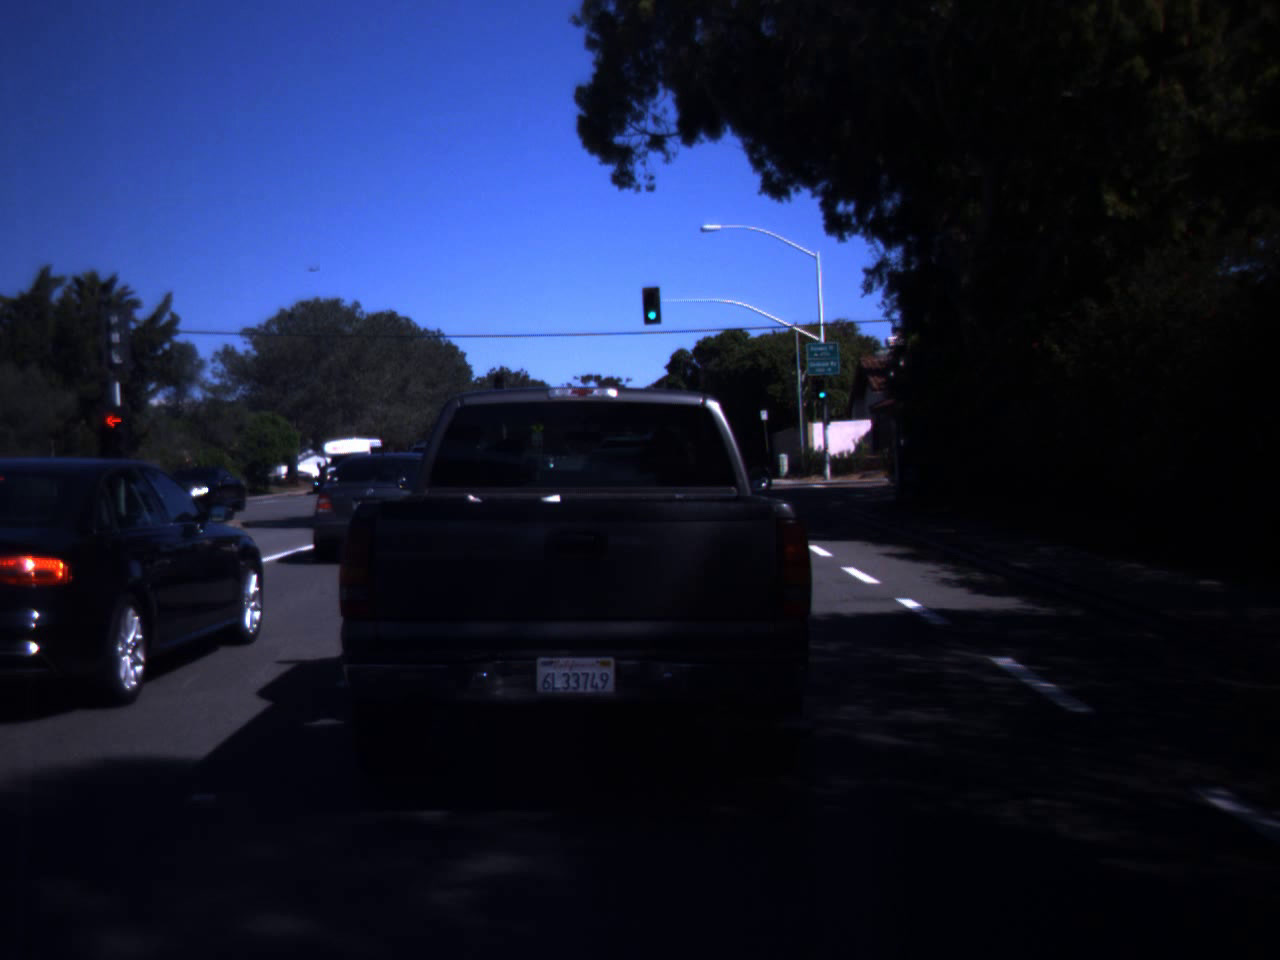go: (643, 287, 661, 322), (815, 380, 830, 400)
stop: (96, 414, 132, 450)
